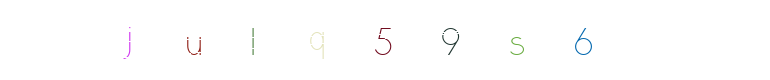5: (351, 0, 431, 80)
6: (543, 0, 623, 80)
9: (370, 0, 450, 80)
J: (89, 0, 169, 80)
Q: (344, 0, 424, 80)
S: (380, 0, 460, 80)
T: (328, 0, 408, 80)
U: (231, 0, 311, 80)
